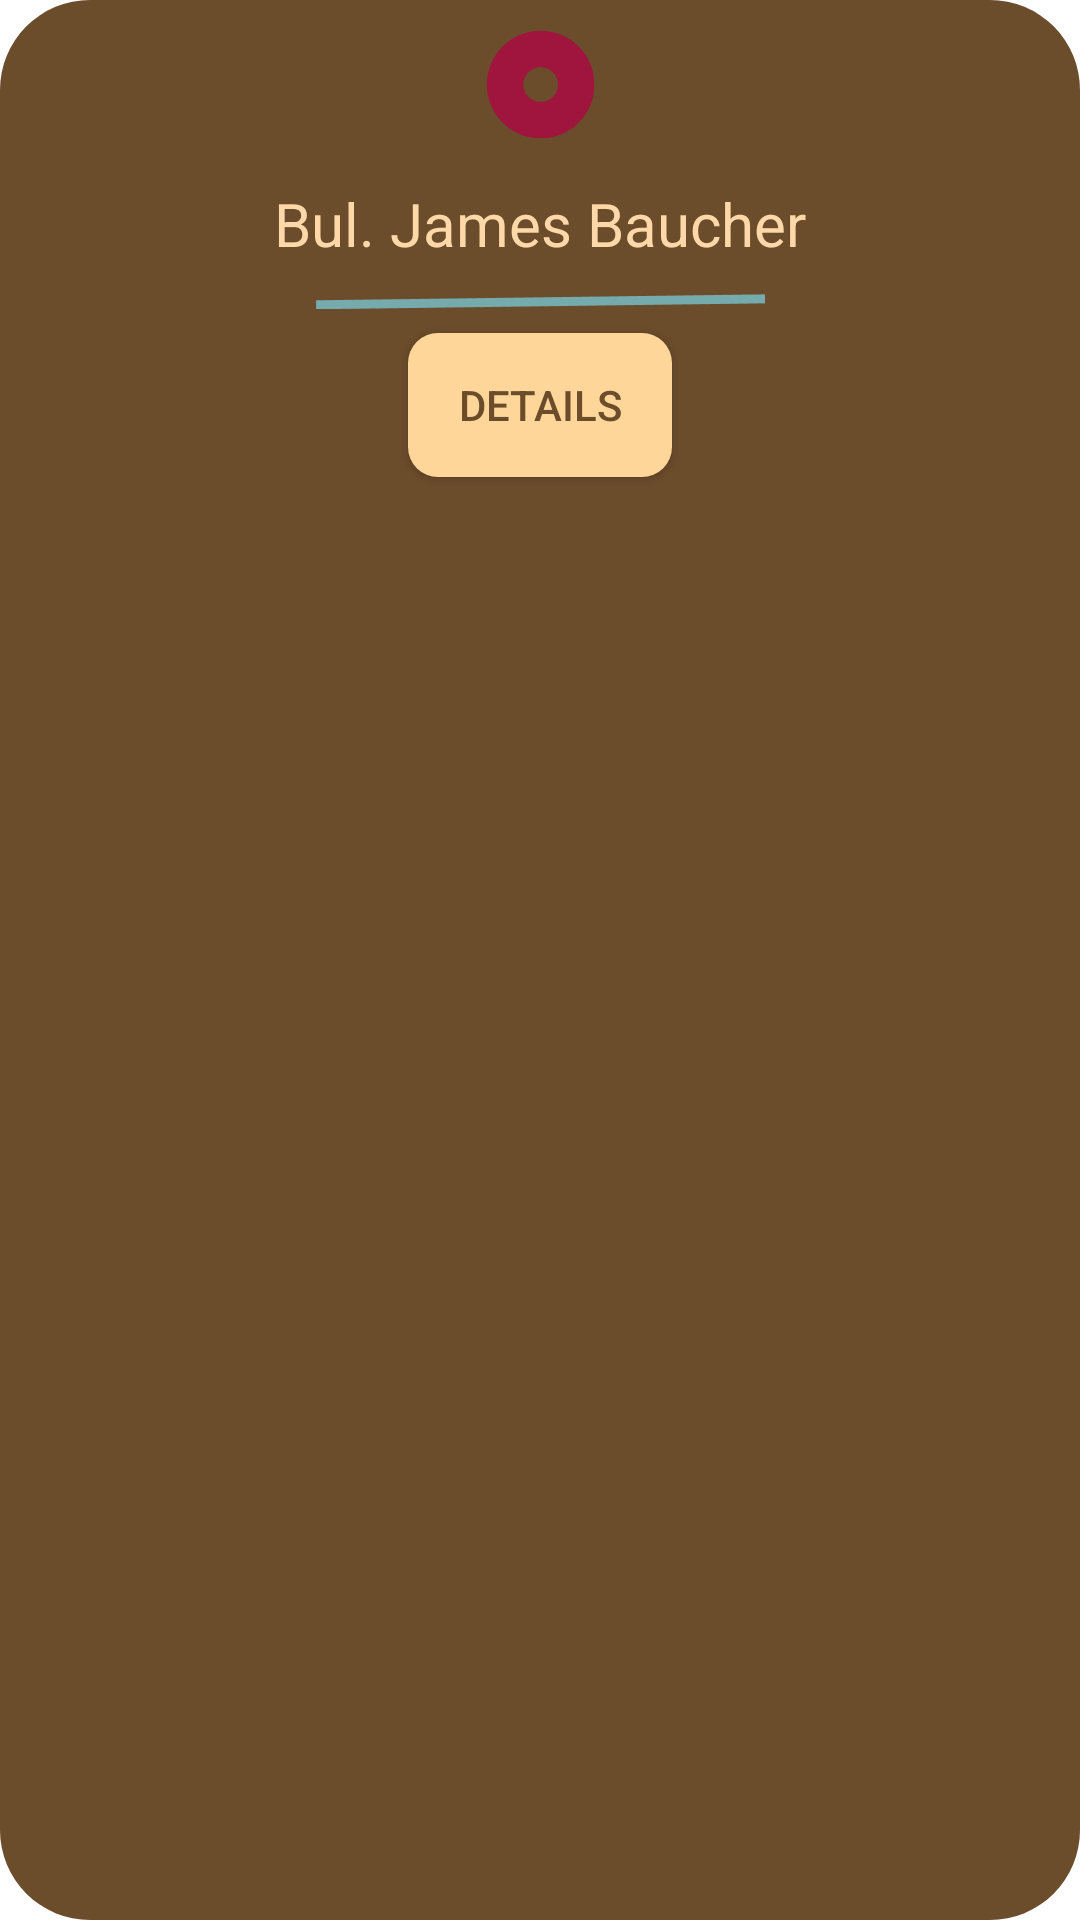

Screen size 1080×1920. Icon name, then its center in pixels as (x=x, y=y):
location point: (x=540, y=84)
